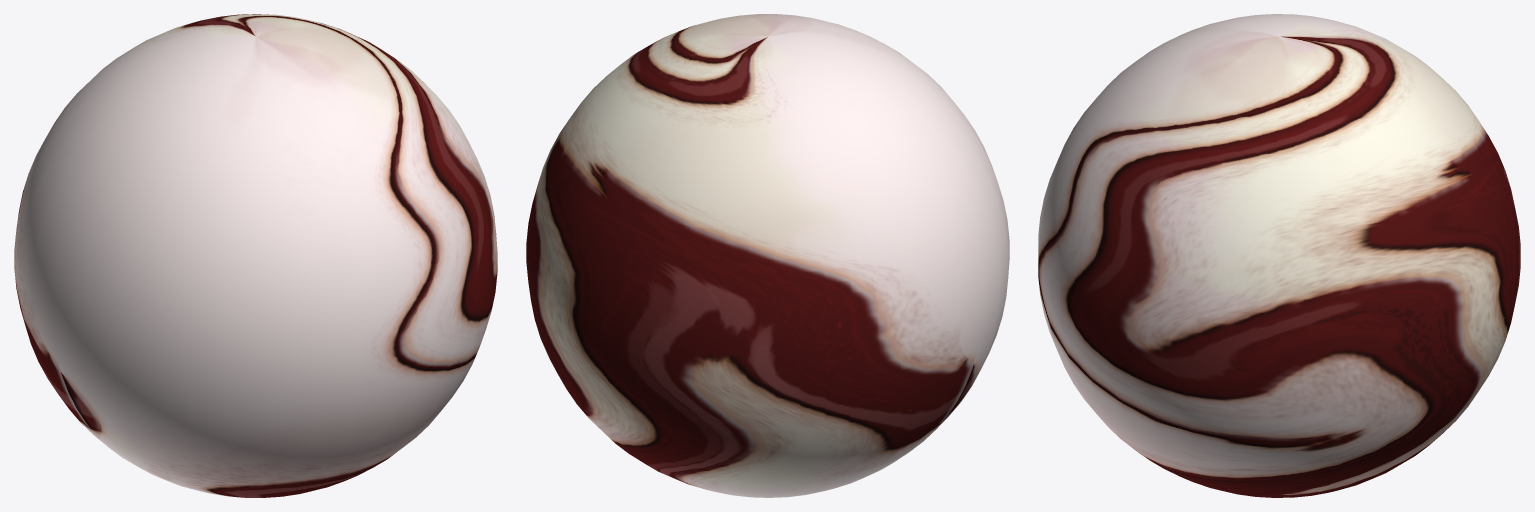
Rendered from oxblood.fbx.
3 views of the same model, side by side, from view 1: azimuth 30°, elevation 25°; view 2: azimuth 150°, elevation 25°; view 3: azimuth 270°, elevation 25° (orthographic).
Visible parts, largest first — view 1: Oxblood; view 2: Oxblood; view 3: Oxblood.
Boxes of the visible parts, box(x1,y1,x2,y2) form: Oxblood: box(14, 14, 497, 497); Oxblood: box(526, 14, 1009, 497); Oxblood: box(1038, 14, 1520, 497).
Bounding box in the file's own units: 200 × 200 × 199.
1 material, 1 textured.
